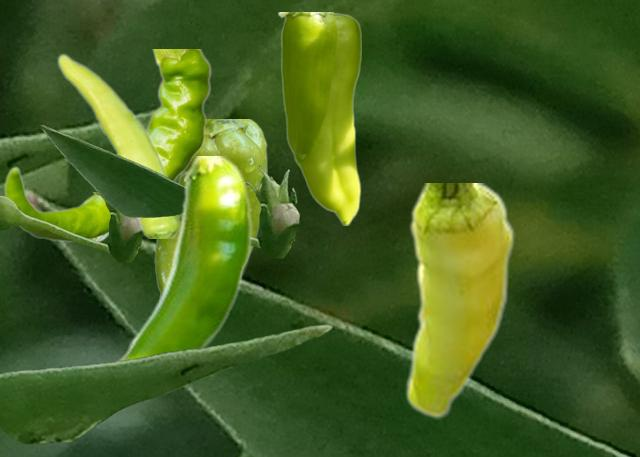green_chili: (4, 49, 211, 242), (115, 156, 252, 360), (404, 183, 514, 418), (57, 52, 178, 237), (154, 119, 266, 294), (277, 12, 360, 224)
